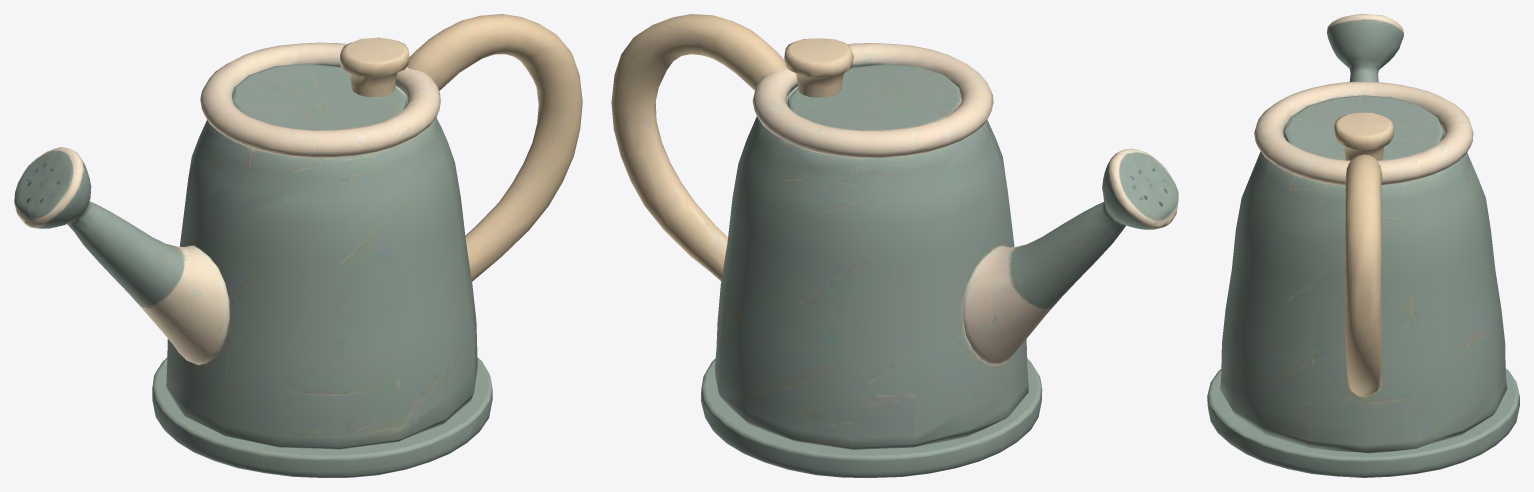
The model's file is watering-can.glb.
3 views of the same model, side by side, from view 1: azimuth 30°, elevation 25°; view 2: azimuth 150°, elevation 25°; view 3: azimuth 270°, elevation 25° (orthographic). The views are drawn at different scales.
Size of the model in its own units: 1 by 0.611 by 0.5422.
1 material, 1 textured.
